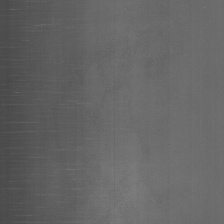waist_folding: (12, 14, 93, 196)
